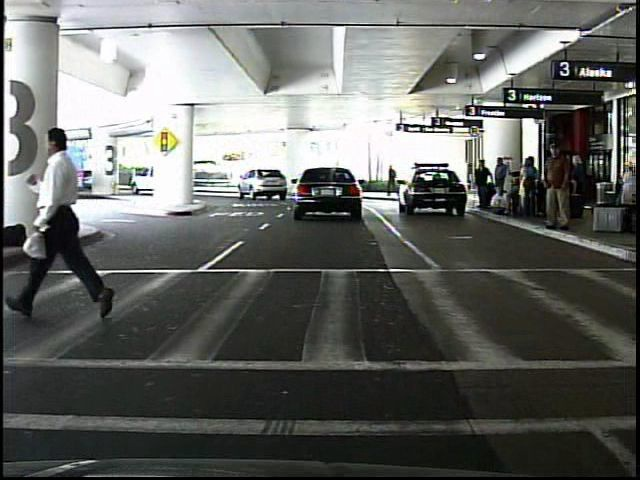person: (24, 125, 129, 320), (539, 141, 576, 235), (474, 159, 493, 211), (388, 164, 401, 199), (127, 164, 139, 189)
